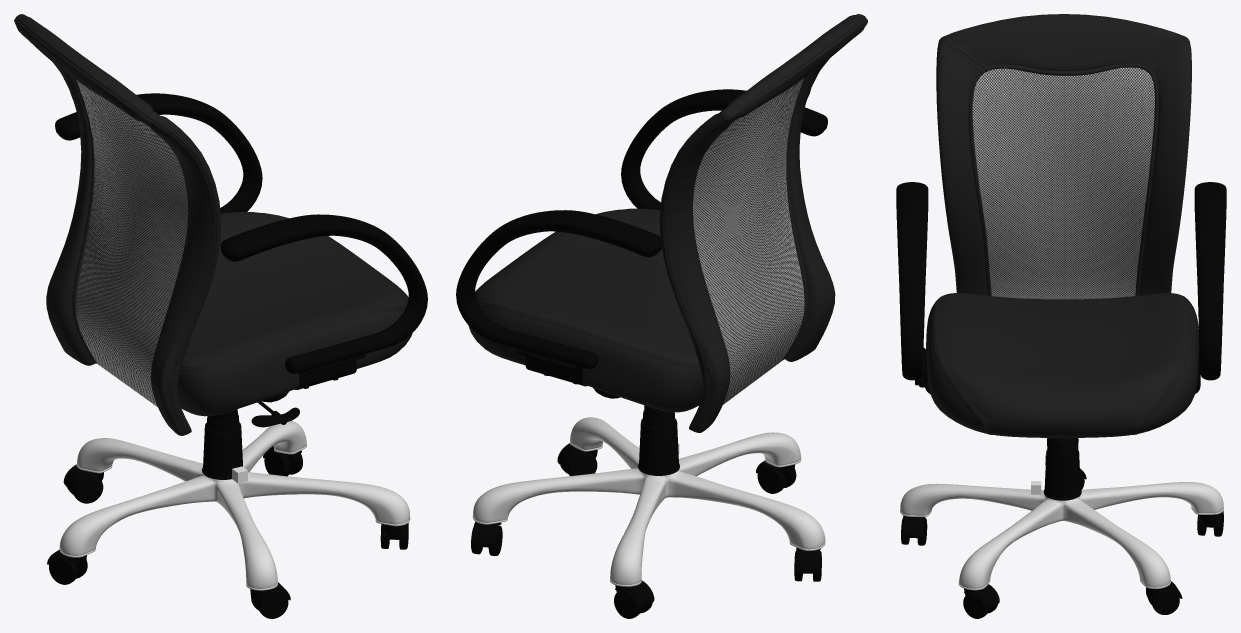
The model's file is Office_Chair.glb.
The picture shows the model from 3 angles, left to right: view 1: azimuth 30°, elevation 25°; view 2: azimuth 150°, elevation 25°; view 3: azimuth 270°, elevation 25°; orthographic projection. The views are drawn at different scales.
Parts seen in each view (by area): view 1: Box02, Box01, Rectangle02, Line04, Line05, Cylinder01, Rectangle11, Cylinder24, Cylinder25, Cylinder02, Cylinder19, Circle01; view 2: Box02, Box01, Rectangle02, Line05, Line04, Cylinder01, Rectangle11, Cylinder24, Cylinder02, Cylinder22, Cylinder26, Cylinder20; view 3: Box02, Box01, Rectangle02, Line04, Line05, Cylinder01, Cylinder03, Cylinder19, Cylinder22, Cylinder23.
Boxes of the visible parts, <box> form: Box02: <box>14,14,221,435</box>; Box01: <box>177,212,412,416</box>; Rectangle02: <box>59,421,410,590</box>; Line04: <box>220,214,427,373</box>; Line05: <box>55,93,262,213</box>; Cylinder01: <box>202,409,242,479</box>; Rectangle11: <box>295,354,365,389</box>; Cylinder24: <box>251,589,288,618</box>; Cylinder25: <box>49,555,87,584</box>; Cylinder02: <box>67,474,103,503</box>; Cylinder19: <box>264,449,302,476</box>; Circle01: <box>251,407,299,427</box>; Box02: <box>659,14,867,432</box>; Box01: <box>468,208,703,412</box>; Rectangle02: <box>472,417,825,586</box>; Line05: <box>456,210,662,369</box>; Line04: <box>621,89,827,210</box>; Cylinder01: <box>638,405,679,475</box>; Rectangle11: <box>516,349,587,386</box>; Cylinder24: <box>757,464,796,493</box>; Cylinder02: <box>614,589,652,618</box>; Cylinder22: <box>560,452,597,475</box>; Cylinder26: <box>795,547,820,573</box>; Cylinder20: <box>471,521,501,547</box>; Box02: <box>936,14,1191,299</box>; Box01: <box>926,292,1199,437</box>; Rectangle02: <box>900,452,1223,590</box>; Line04: <box>896,182,928,380</box>; Line05: <box>1194,182,1226,380</box>; Cylinder01: <box>1043,449,1081,500</box>; Cylinder03: <box>1047,438,1078,457</box>; Cylinder19: <box>1148,588,1179,614</box>; Cylinder22: <box>963,592,997,618</box>; Cylinder23: <box>901,515,924,538</box>.
Bounding box in the file's own units: 65.24 × 102 × 63.68.
Materials: 6 (1 with a texture image).
